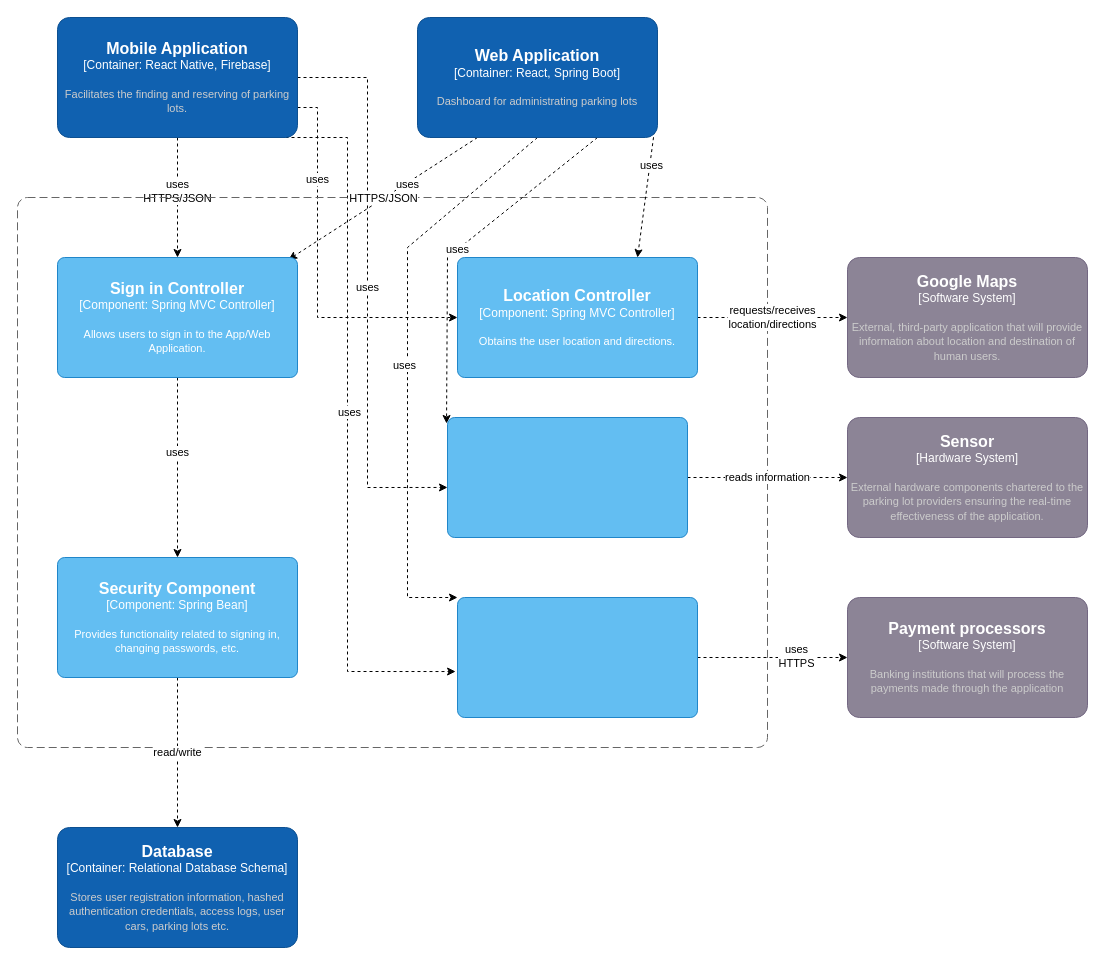
Image size: 1105x965. Some labels were removed from this diagram. The box of each missing label's shape, as (x1, y1, x2, y2) in pixels:
API Application [Container]: (16, 196, 768, 748)
Payment Controller [Component: Spring Bean] Manages the payment process.: (456, 596, 698, 718)
Sensor Controller [Component: Spring Bean] Obtains informations from sensors: (446, 416, 688, 538)
